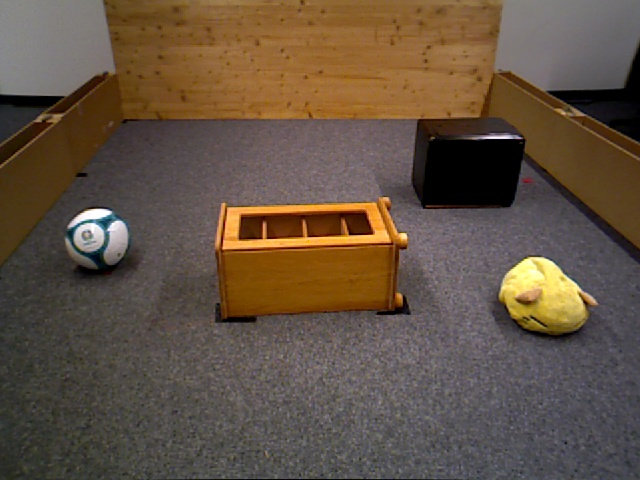grasp: (500, 257, 593, 336)
kick: (65, 206, 131, 273)
push: (414, 117, 526, 213)
